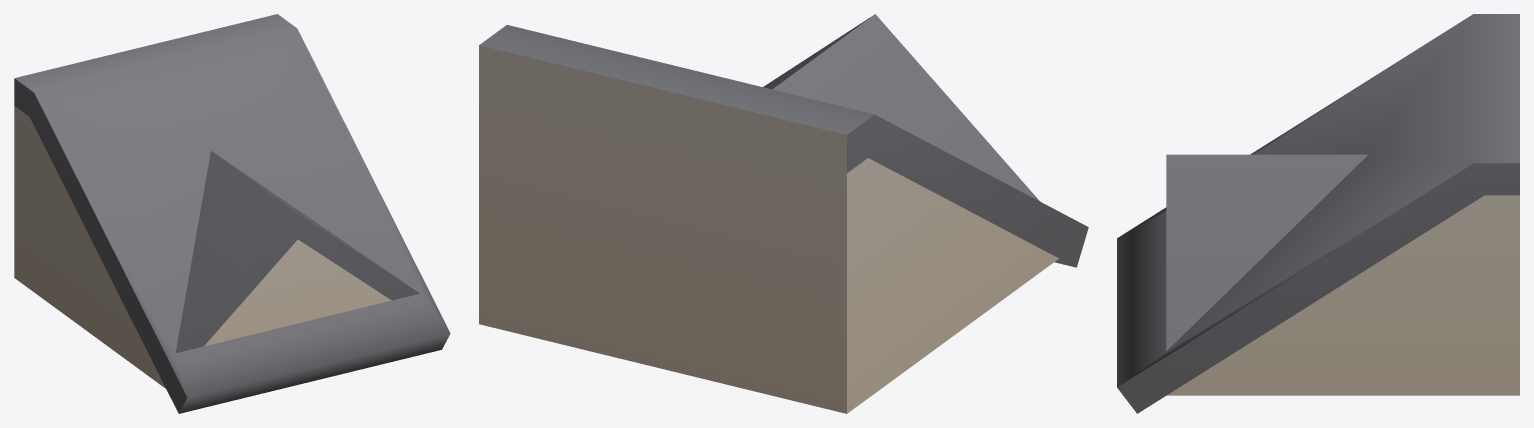
File: roof-slanted-detail.glb
The picture shows the model from 3 angles, left to right: view 1: azimuth 30°, elevation 25°; view 2: azimuth 150°, elevation 25°; view 3: azimuth 270°, elevation 25°; orthographic projection. The views are drawn at different scales.
Visible parts, largest first — view 1: roof-slanted-detail; view 2: roof-slanted-detail; view 3: roof-slanted-detail.
Boxes of the visible parts, x1=… form: roof-slanted-detail: x1=14, y1=14, x2=450, y2=413; roof-slanted-detail: x1=479, y1=14, x2=1088, y2=413; roof-slanted-detail: x1=1117, y1=14, x2=1519, y2=413.
Bounding box in the file's own units: 1 × 0.782 × 1.14.
